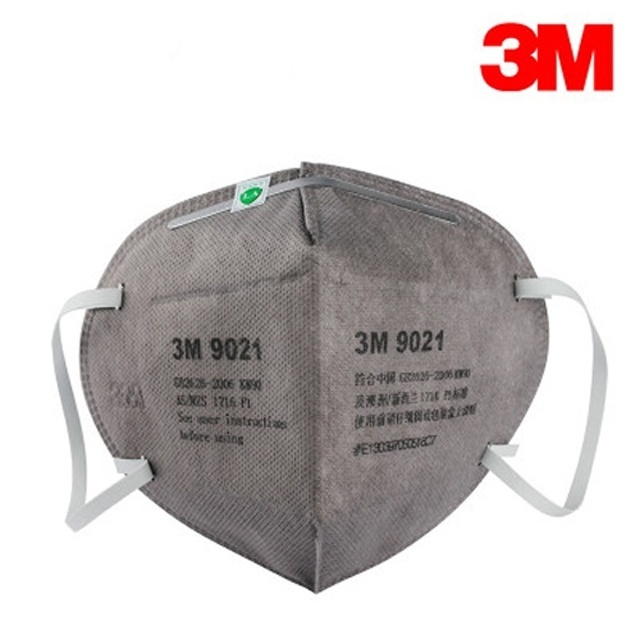mask: (47, 159, 615, 594)
